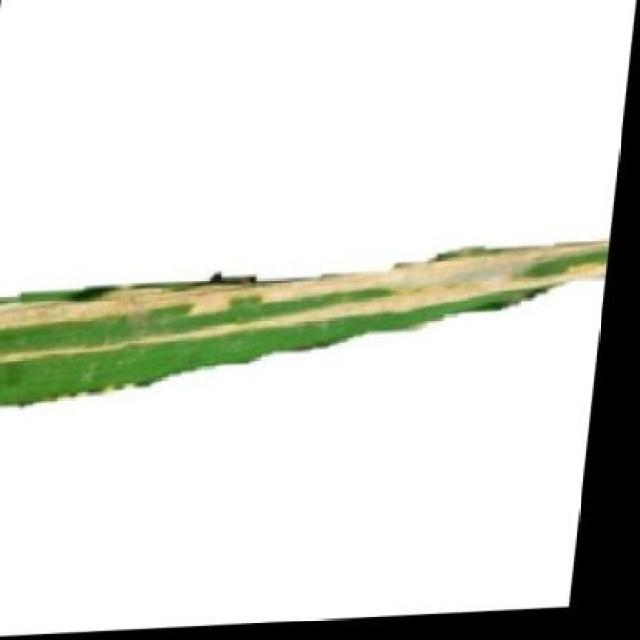Brown_Spot: (0, 238, 617, 414)
